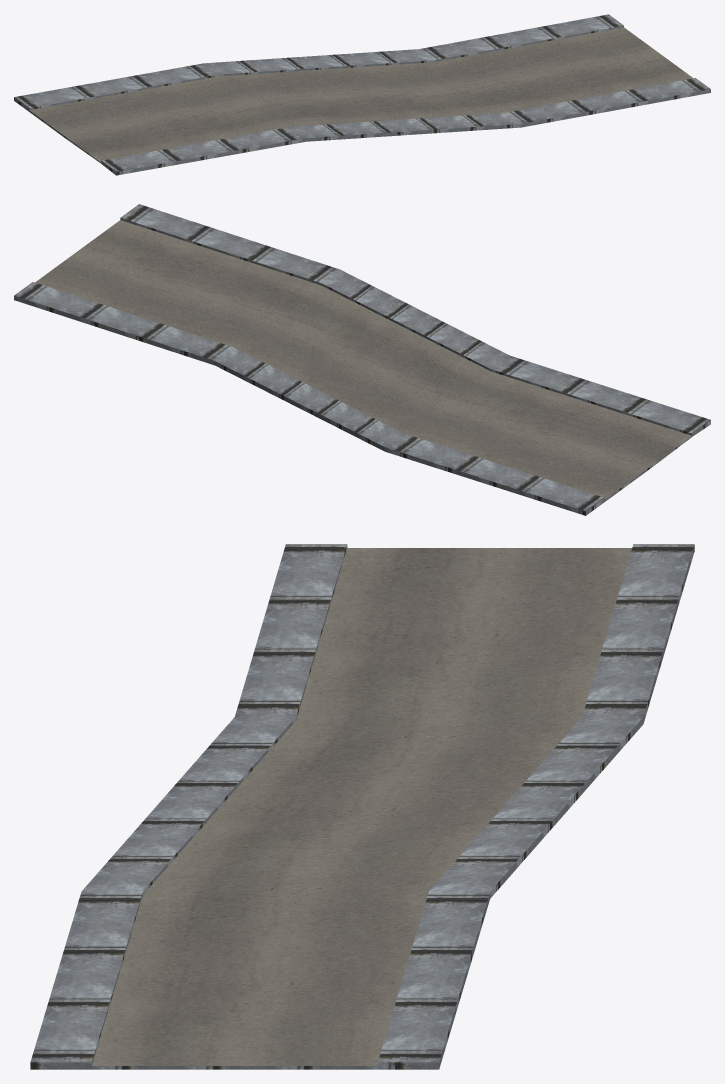
File: Urban_Road3Sheer_Model.fbx
The picture shows the model from 3 angles, top to bottom: view 1: azimuth 30°, elevation 25°; view 2: azimuth 150°, elevation 25°; view 3: azimuth 270°, elevation 25°; orthographic projection. The views are drawn at different scales.
Visible parts, largest first — view 1: Urban_Road3Sheer_Mesh; view 2: Urban_Road3Sheer_Mesh; view 3: Urban_Road3Sheer_Mesh.
Part boxes in pixels (x1,y1,x2,y2): Urban_Road3Sheer_Mesh: (14,14,710,175); Urban_Road3Sheer_Mesh: (14,204,710,515); Urban_Road3Sheer_Mesh: (30,544,694,1069).
Size of the model in its own units: 48 by 0.4 by 26.
